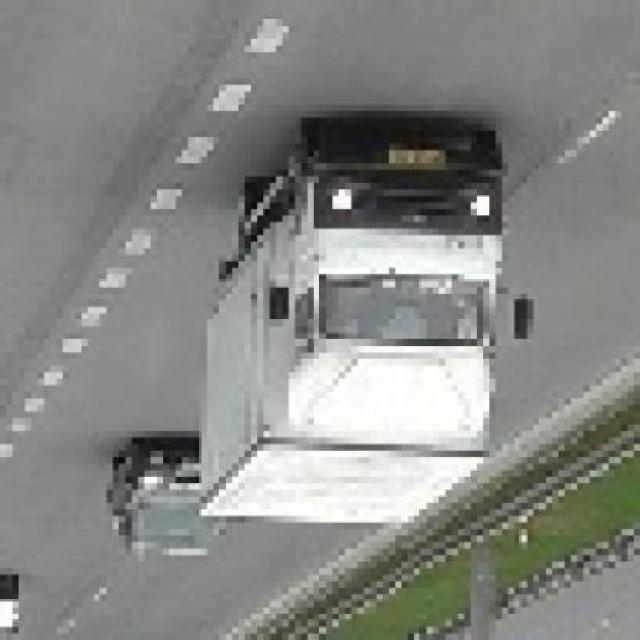truck: (208, 132, 540, 530)
